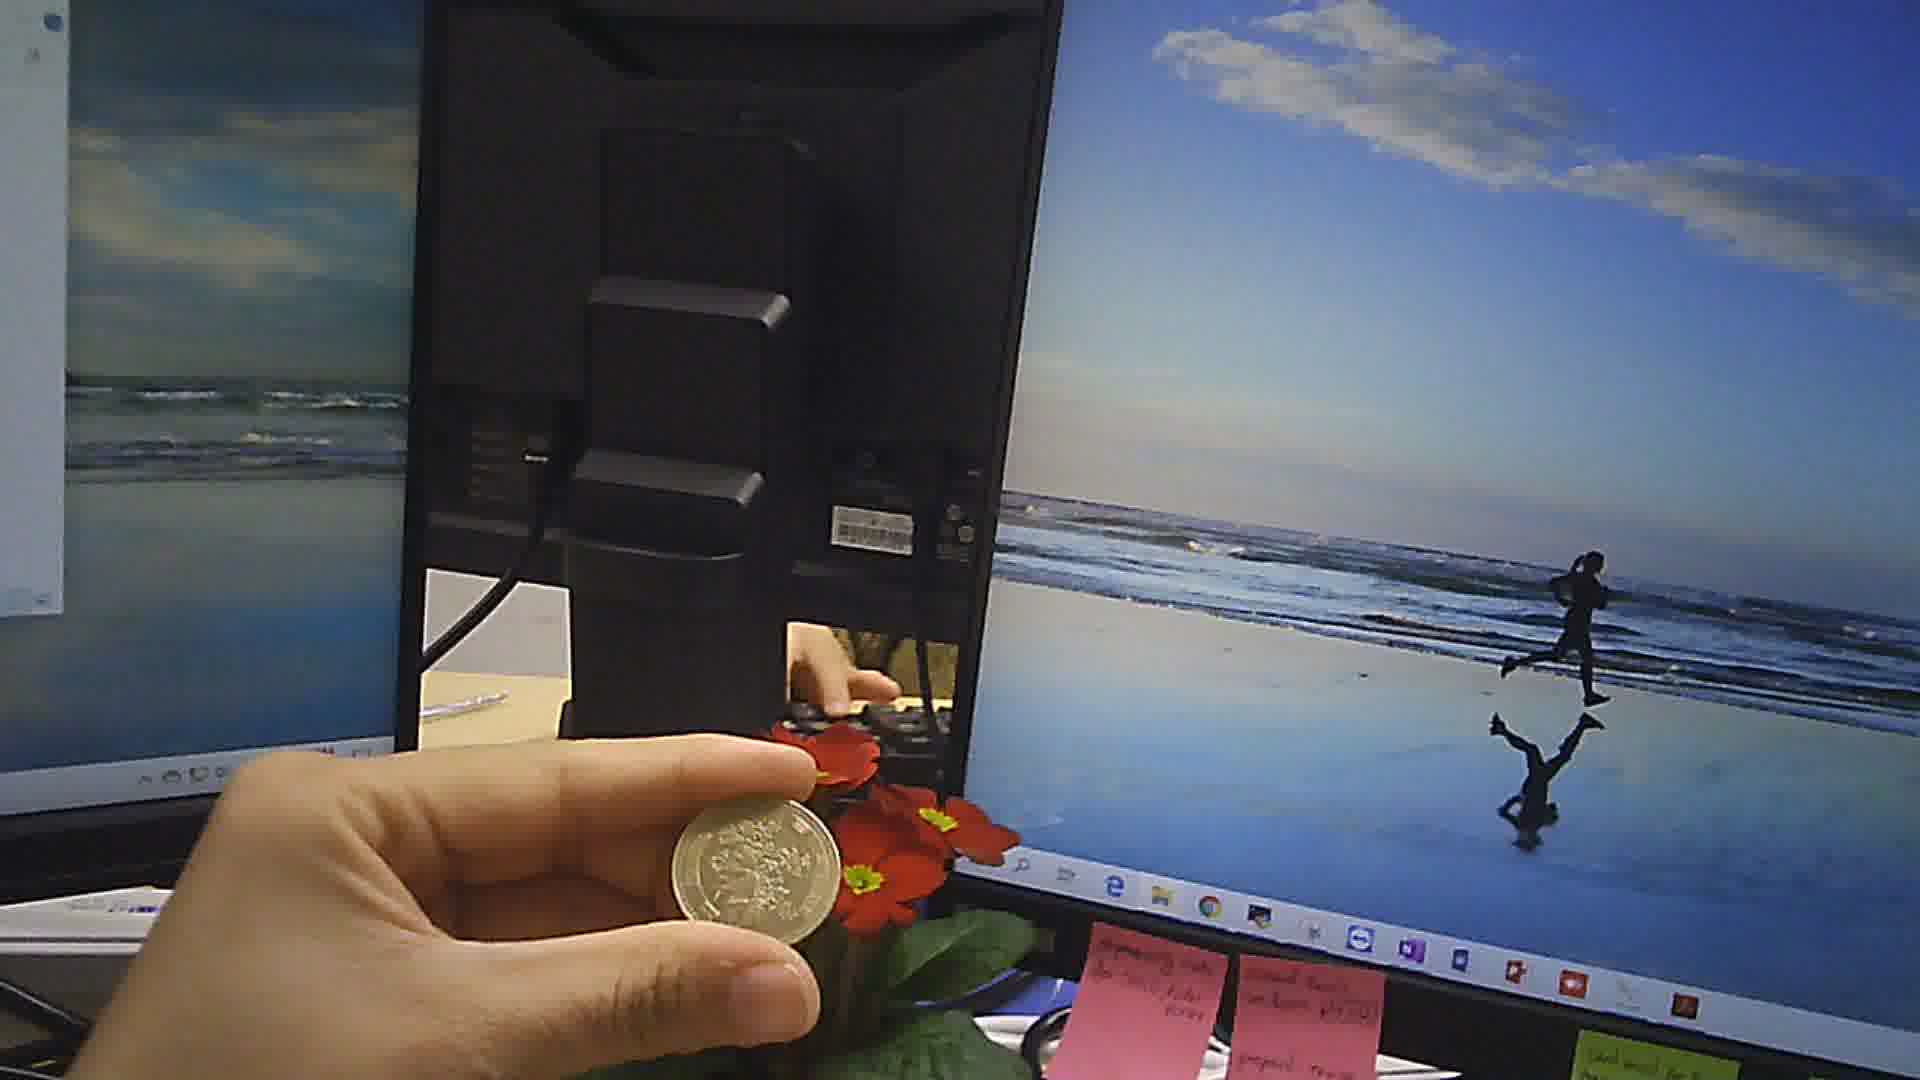500 Yen: (657, 783, 845, 951)
